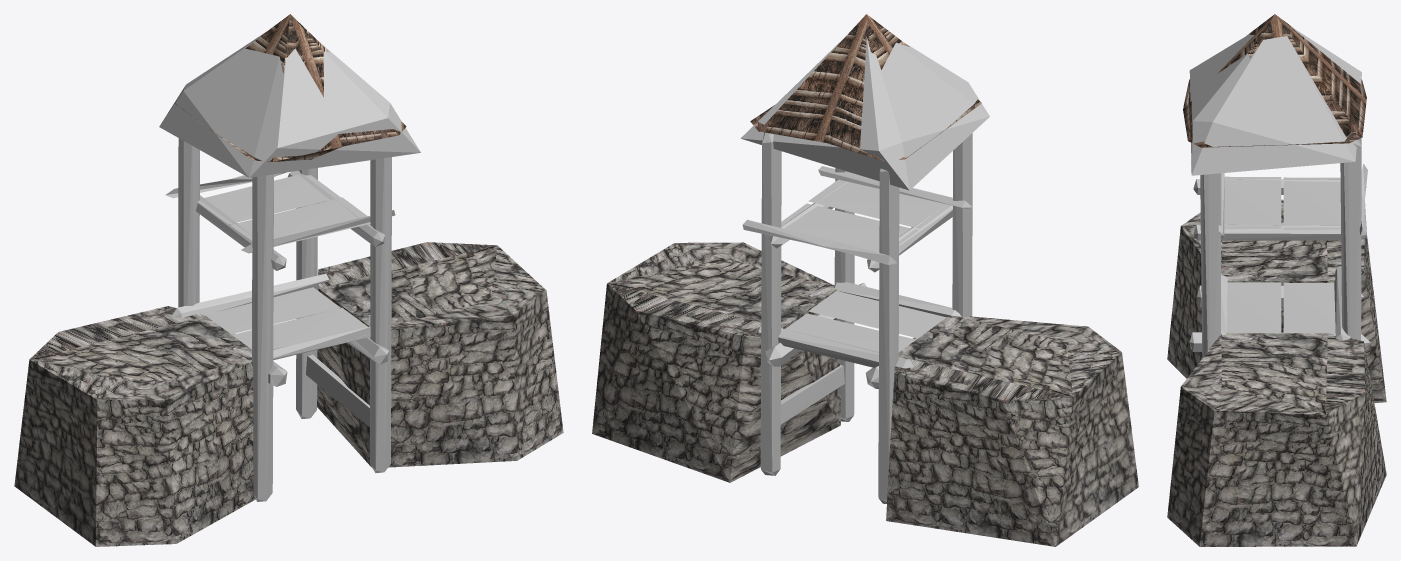
The model's file is TowerGate_1b_LOD4.fbx.
The picture shows the model from 3 angles, left to right: view 1: azimuth 30°, elevation 25°; view 2: azimuth 150°, elevation 25°; view 3: azimuth 270°, elevation 25°; orthographic projection. The views are drawn at different scales.
Visible parts, largest first — view 1: Cube_5, Cylinder_1, Cube, Cube_1; view 2: Cube_5, Cylinder_1, Cube, Cube_1; view 3: Cube_5, Cylinder_1, Cube, Cube_1.
Part boxes in pixels (x1,y1,x2,y2): Cube_5: [14, 242, 563, 546]; Cylinder_1: [165, 138, 395, 501]; Cube: [159, 32, 420, 177]; Cube_1: [174, 14, 406, 161]; Cube_5: [592, 242, 1138, 546]; Cylinder_1: [742, 132, 972, 503]; Cube: [740, 37, 989, 190]; Cube_1: [750, 14, 981, 161]; Cube_5: [1167, 199, 1386, 546]; Cylinder_1: [1189, 138, 1370, 357]; Cube: [1189, 25, 1361, 175]; Cube_1: [1183, 14, 1366, 147].
Size of the model in its own units: 1729 by 739 by 1578.
